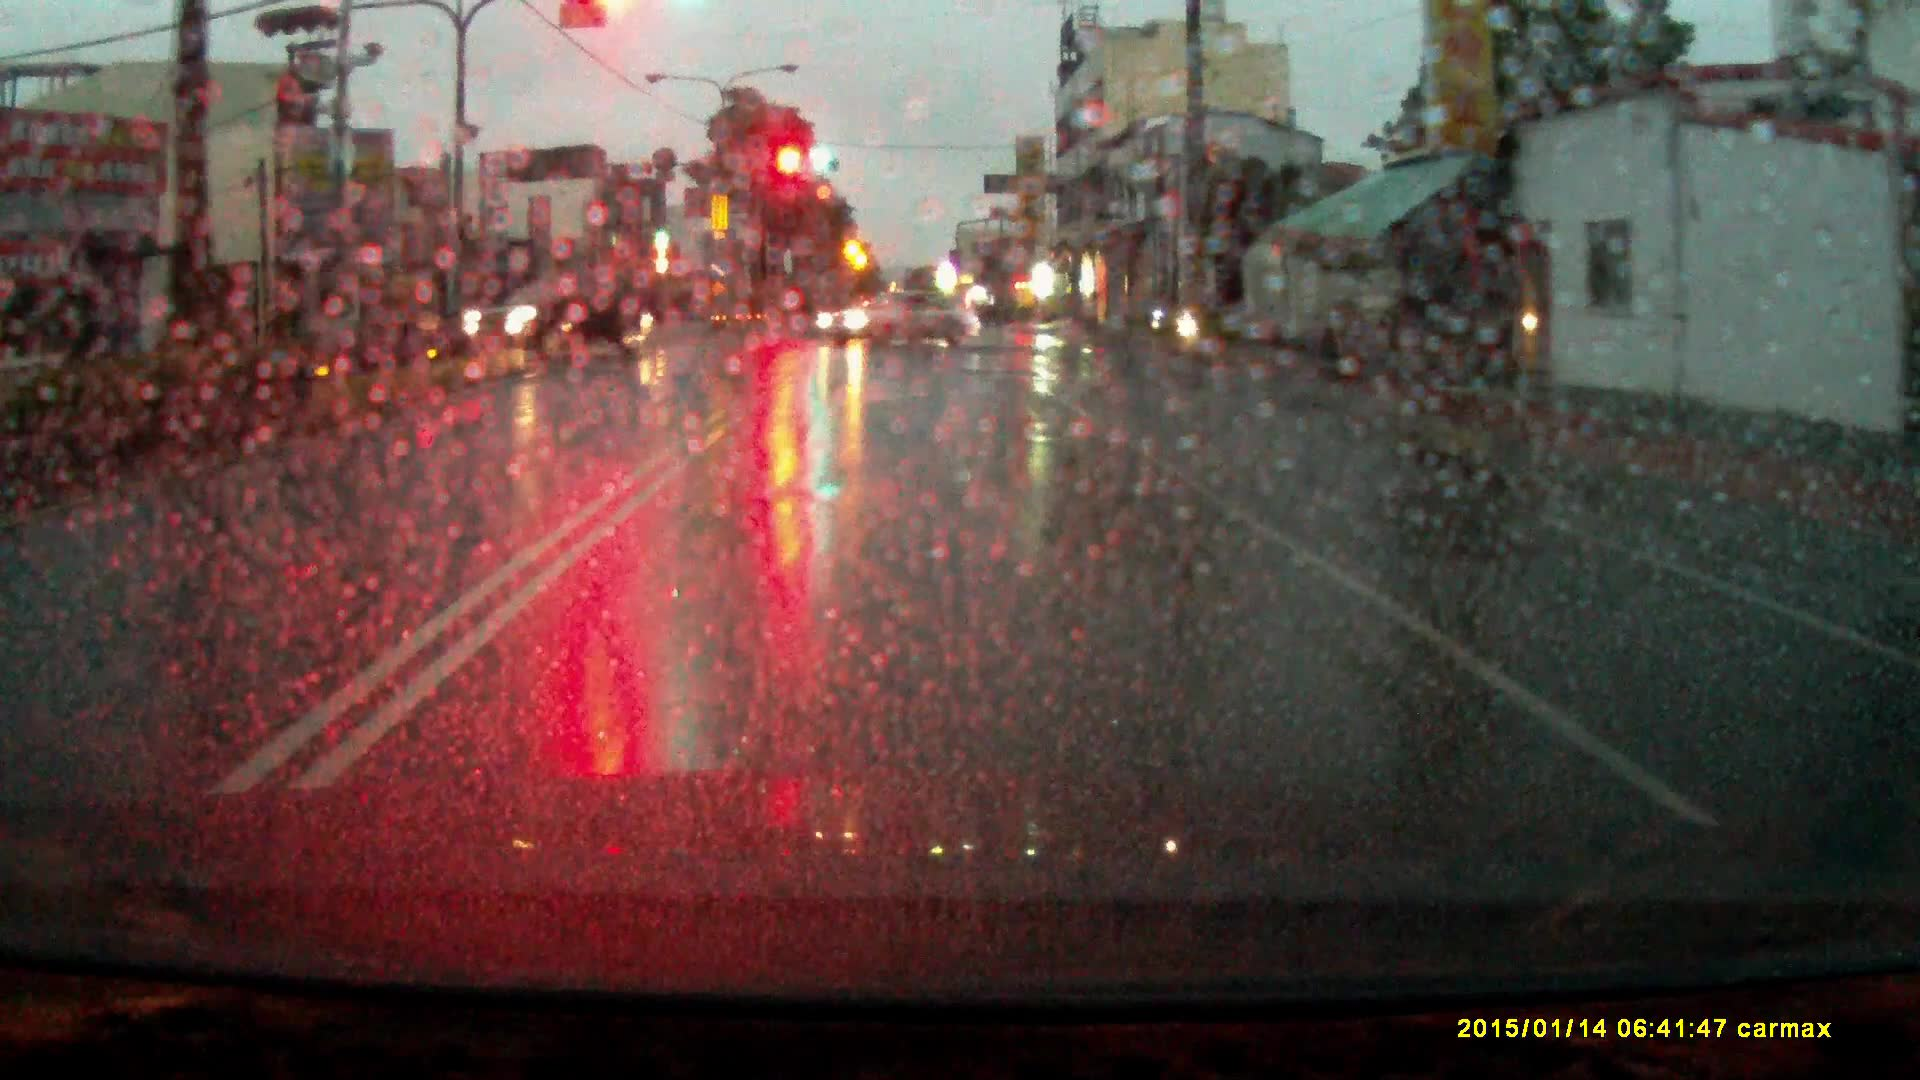vehicle: (458, 276, 655, 361), (818, 286, 978, 351)
